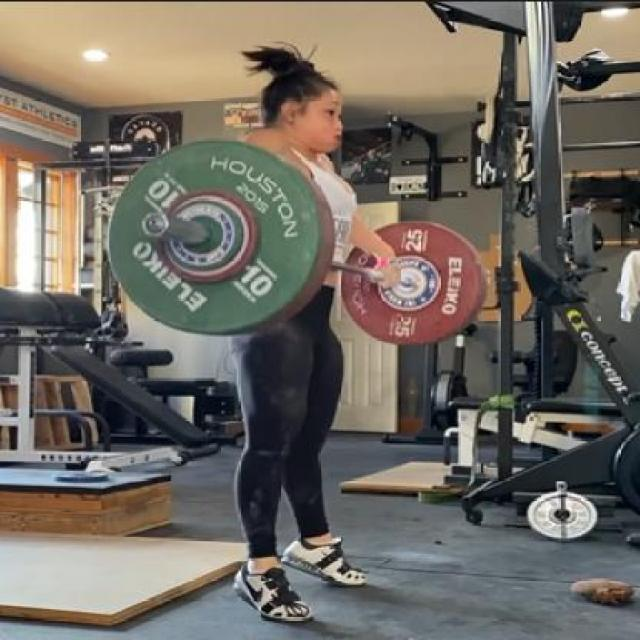Barbell: (136, 208, 175, 242)
